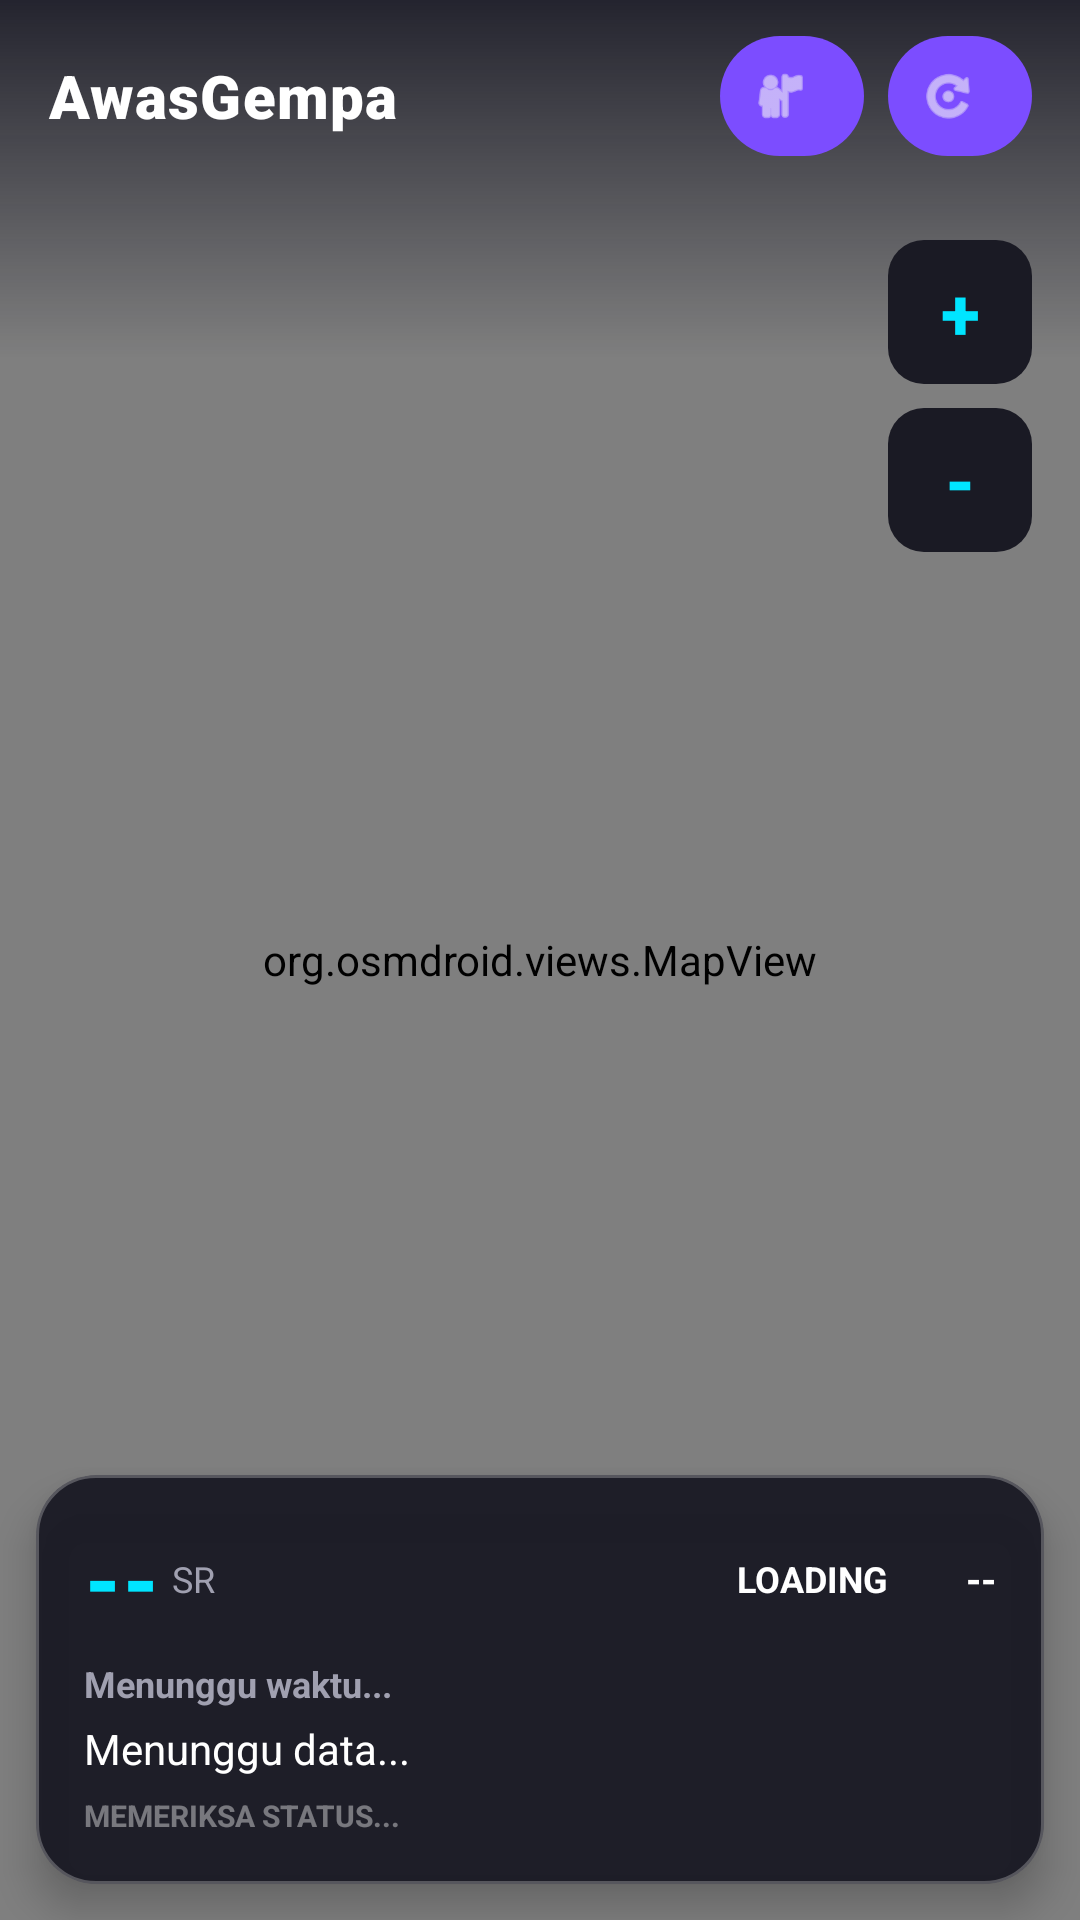

Point at icon controls on the screen. Image size 1080px×1920px, points as [x,y].
myplaces: [792,96]
rotate: [960,96]
